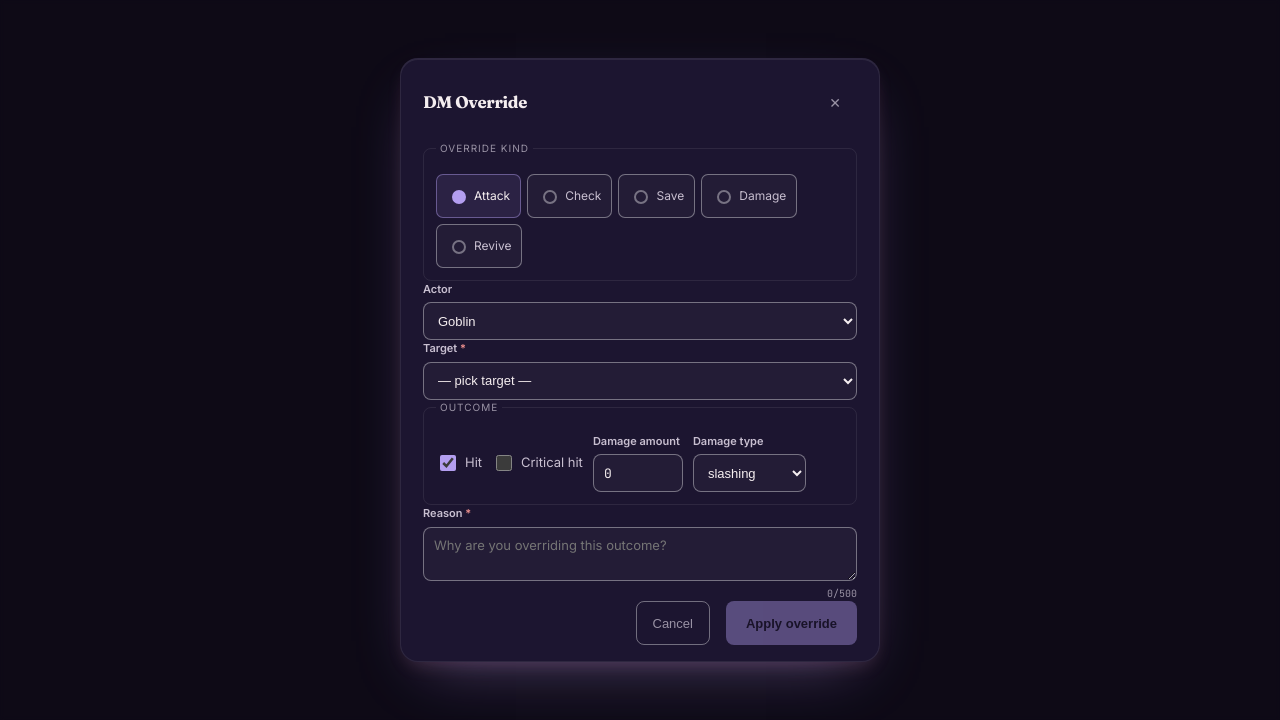
Scenario: HP field › Half rounds up on an odd max
Click the radio button labelled "Revive". click: (459, 247)
box: [452,240,466,254]
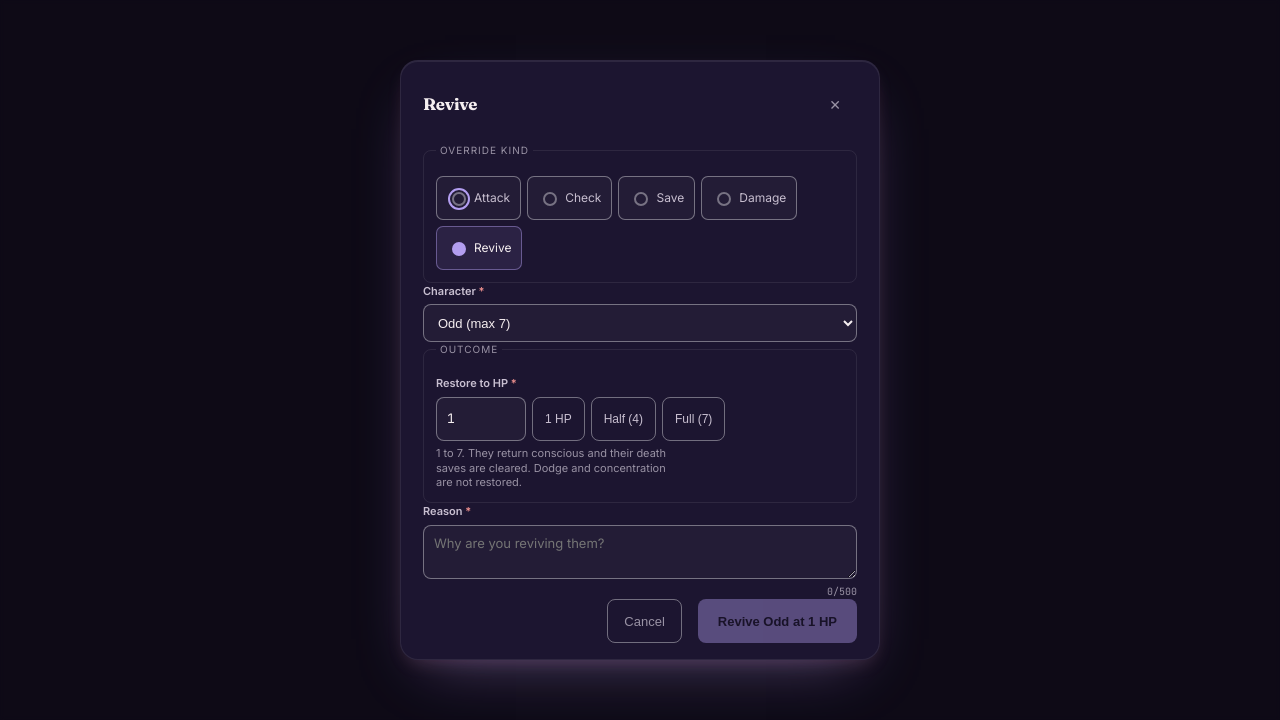
Now the button with aria-label "Set to half, 4 HP" is shown, box [591,397,656,441]
